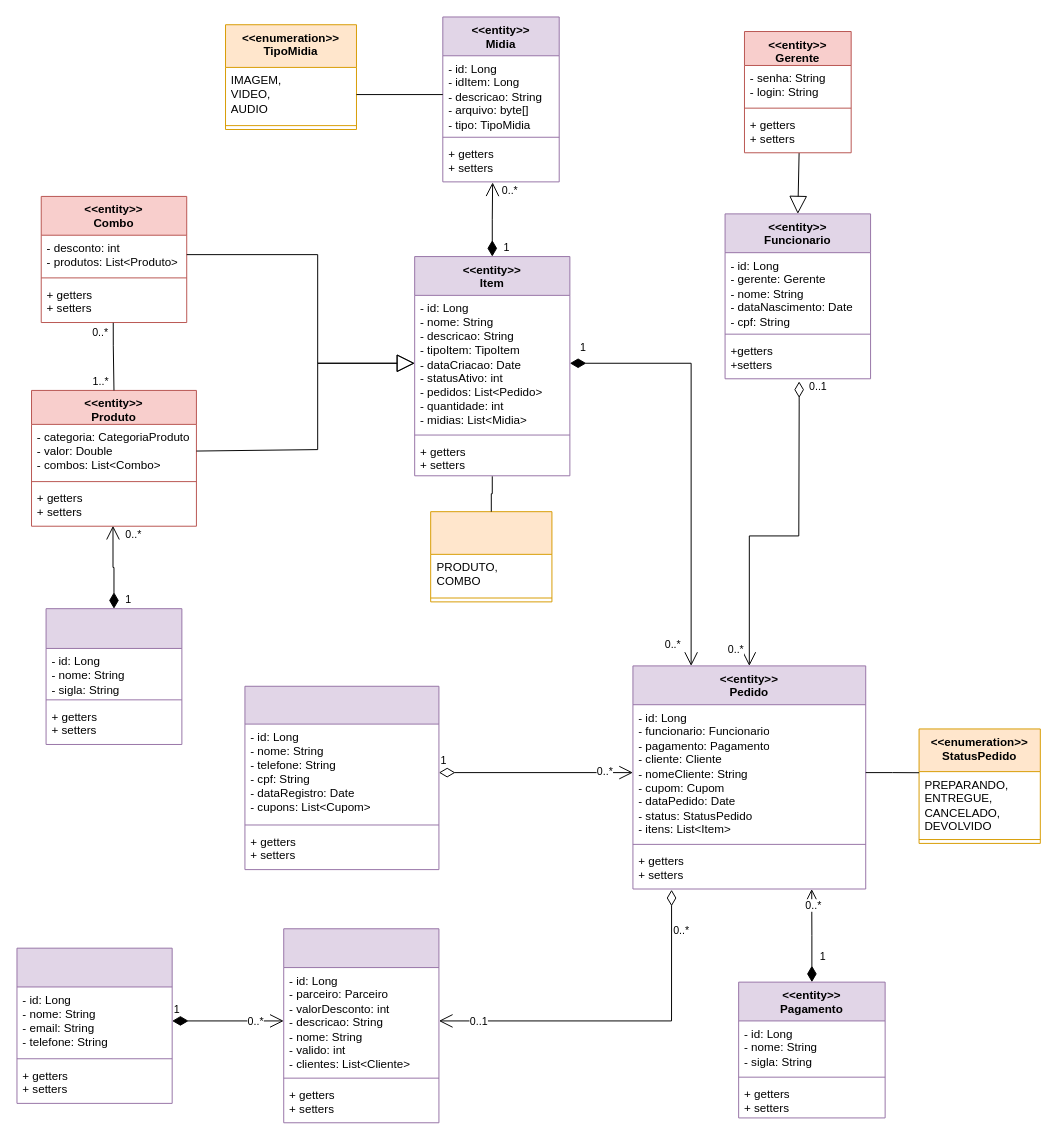
The diagram is 1057 pixels wide and 1143 high, and some of its shapes have lost their labels. Here are the shapes that lost their labels. From the top down, the box of each, then its label:
(430, 511, 552, 602): <<enumeration>> TipoItem
(45, 608, 182, 744): <<entity>> CategoriaProduto
(244, 685, 439, 870): <<entity>> Cliente
(16, 947, 172, 1103): <<entity>> Parceiro
(283, 928, 439, 1123): <<entity>> Cupom
